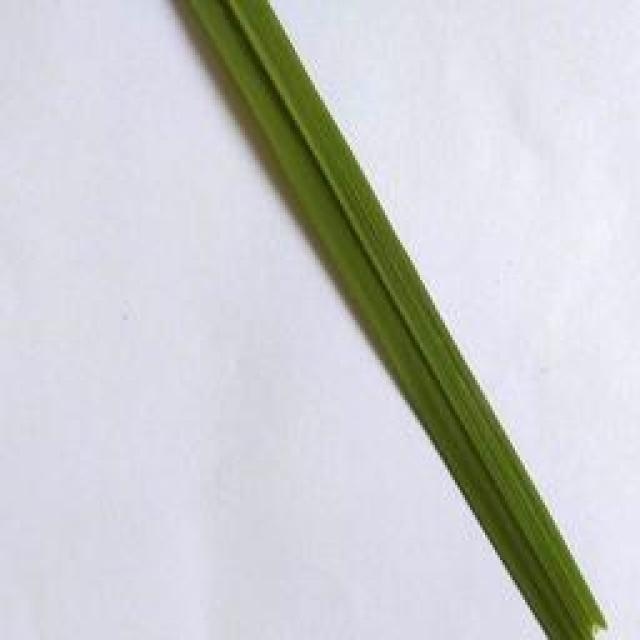Healthy-Plant: (166, 0, 616, 640)
